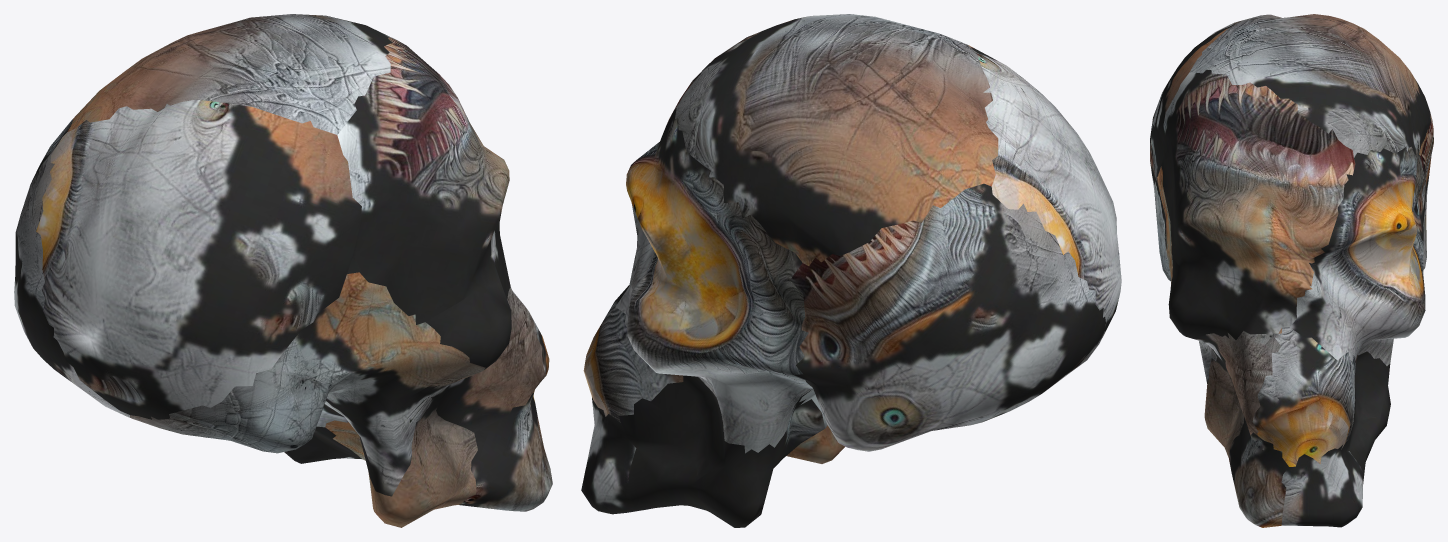
File: skull.obj
The picture shows the model from 3 angles, left to right: view 1: azimuth 30°, elevation 25°; view 2: azimuth 150°, elevation 25°; view 3: azimuth 270°, elevation 25°; orthographic projection. The views are drawn at different scales.
Visible parts, largest first — view 1: Mesh_0; view 2: Mesh_0; view 3: Mesh_0.
Boxes of the visible parts, x1=… form: Mesh_0: x1=14, y1=14, x2=552, y2=527; Mesh_0: x1=581, y1=14, x2=1121, y2=527; Mesh_0: x1=1150, y1=14, x2=1433, y2=527.
Bounding box in the file's own units: 1.2 × 1.18 × 0.7543.
